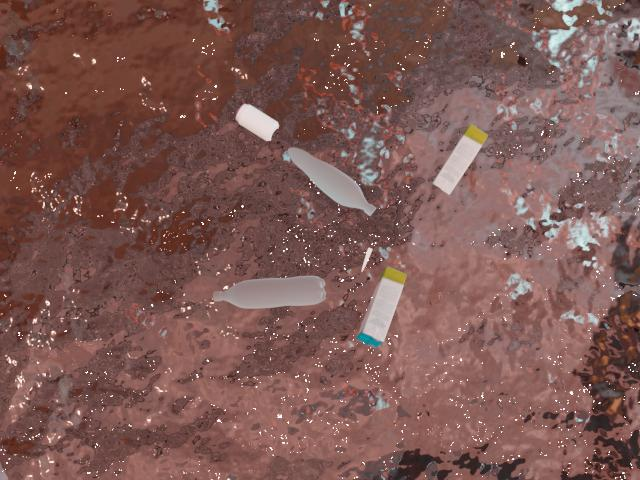Metal: (230, 102, 290, 145)
Plastic: (278, 140, 400, 225), (209, 254, 340, 319)
Trash: (349, 255, 429, 360), (423, 112, 504, 199)
